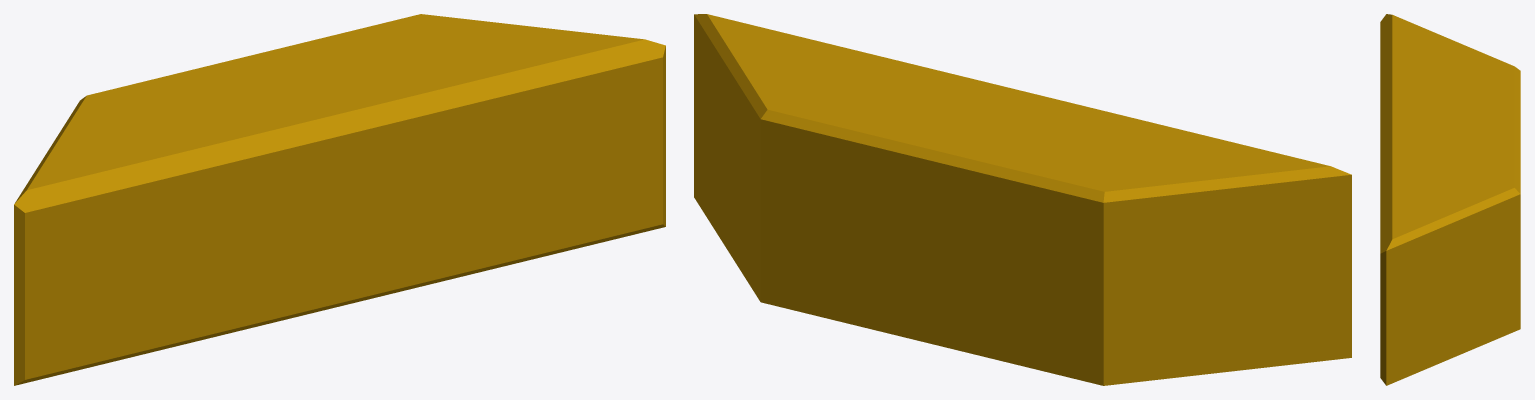
The model's file is 14thTab.fbx.
3 views of the same model, side by side, from view 1: azimuth 30°, elevation 25°; view 2: azimuth 150°, elevation 25°; view 3: azimuth 270°, elevation 25° (orthographic). The views are drawn at different scales.
Parts seen in each view (by area): view 1: Empty_Mesh; view 2: Empty_Mesh; view 3: Empty_Mesh.
Boxes of the visible parts, x1,y1,x2,y2 form: Empty_Mesh: [14, 14, 665, 385]; Empty_Mesh: [694, 14, 1351, 385]; Empty_Mesh: [1380, 14, 1520, 385].
Bounding box in the file's own units: 4.77 × 1.32 × 1.19.
